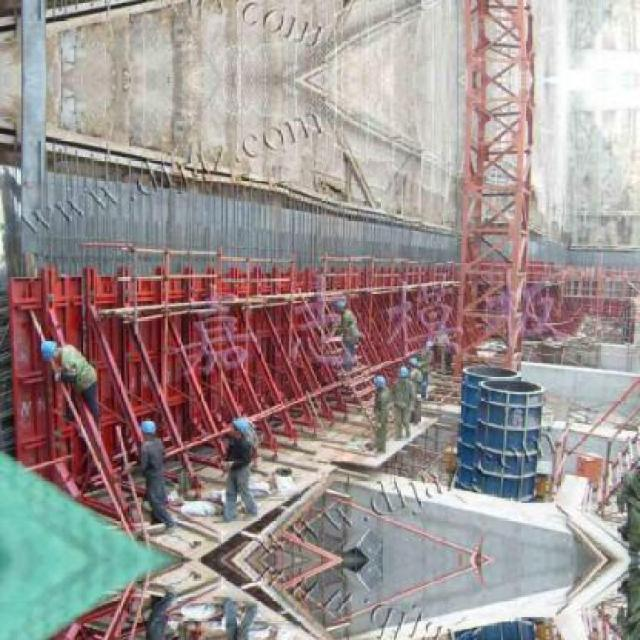helmet: (37, 338, 65, 367), (226, 414, 248, 438), (139, 418, 156, 440), (370, 373, 384, 393), (396, 364, 407, 384)
